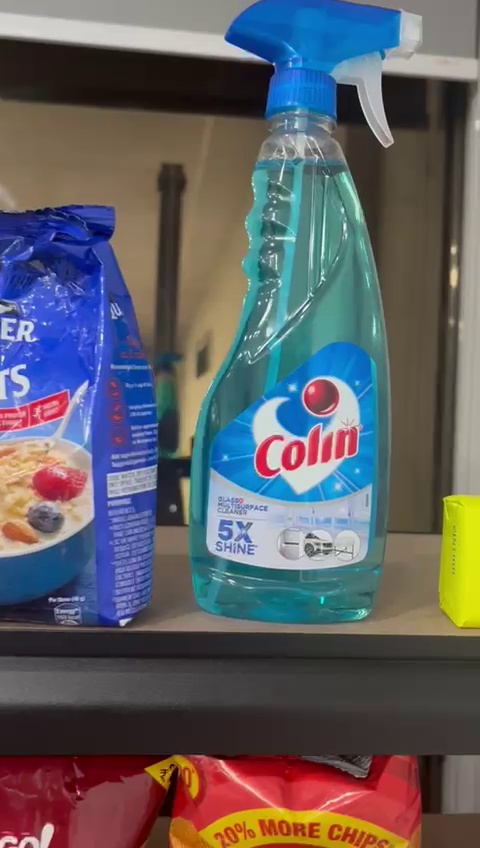Colin: (185, 1, 430, 625)
